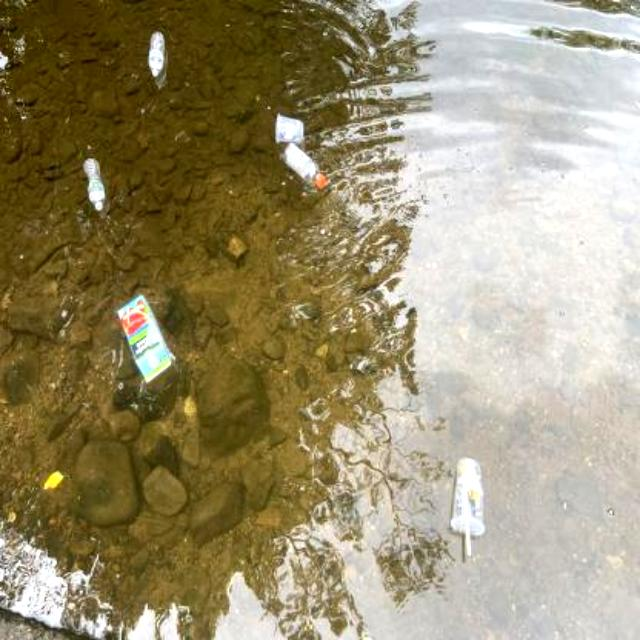Cardboard: (100, 292, 184, 388)
Plastic: (444, 453, 492, 563), (274, 137, 330, 191), (78, 153, 110, 217), (269, 111, 313, 149), (145, 24, 171, 80)
